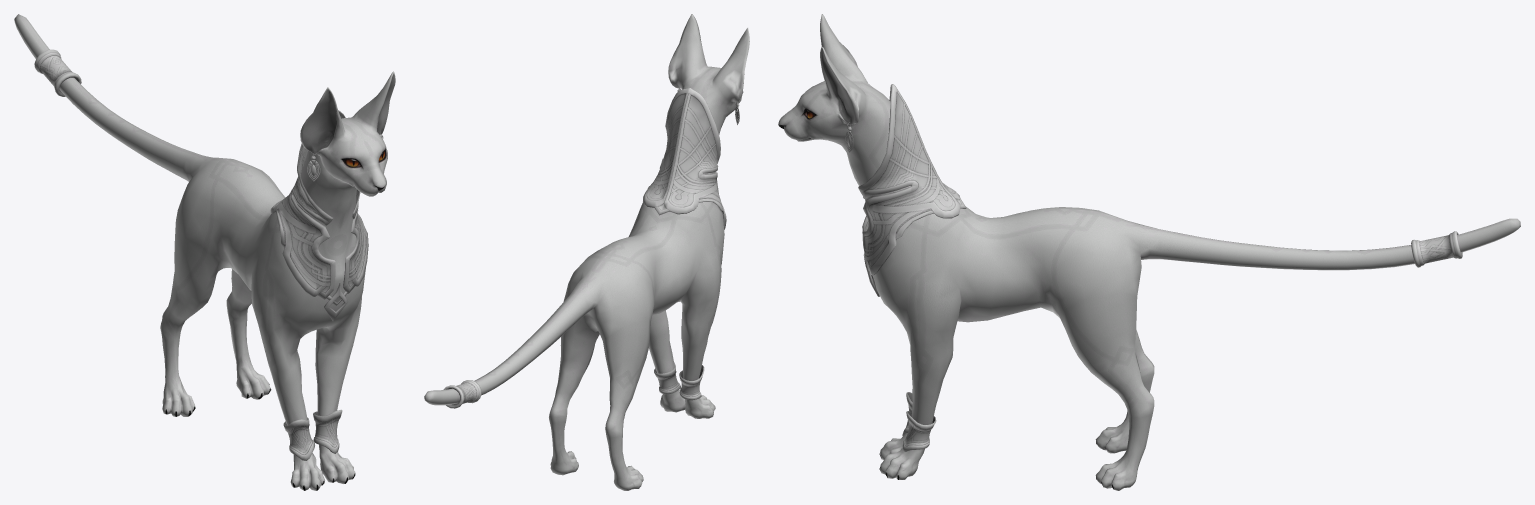
3 renders of one model, left to right at view 1: azimuth 30°, elevation 25°; view 2: azimuth 150°, elevation 25°; view 3: azimuth 270°, elevation 25°, orthographic. The views are drawn at different scales.
Visible parts, largest first — view 1: Sphynx; view 2: Sphynx; view 3: Sphynx.
Boxes of the visible parts, left/top/right/bottom form: Sphynx: left=14, top=14, right=395, bottom=490; Sphynx: left=424, top=14, right=749, bottom=490; Sphynx: left=778, top=14, right=1520, bottom=490.
Bounding box in the file's own units: 0.447 × 1.73 × 2.66.
